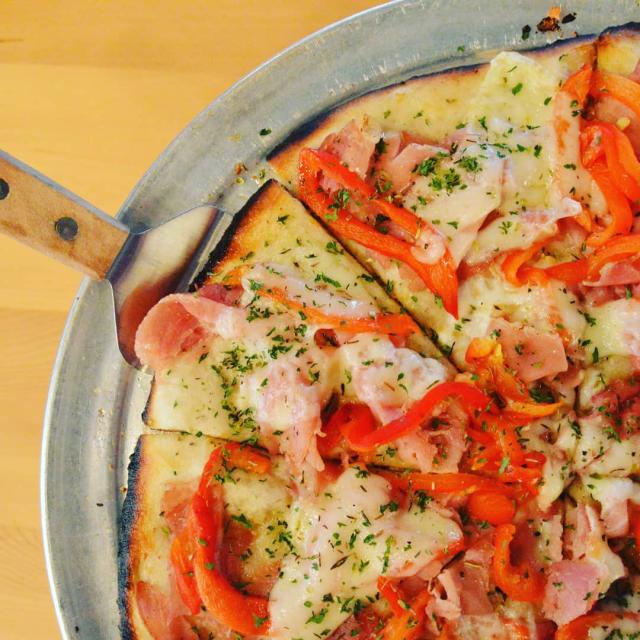pizza: (120, 21, 640, 640)
